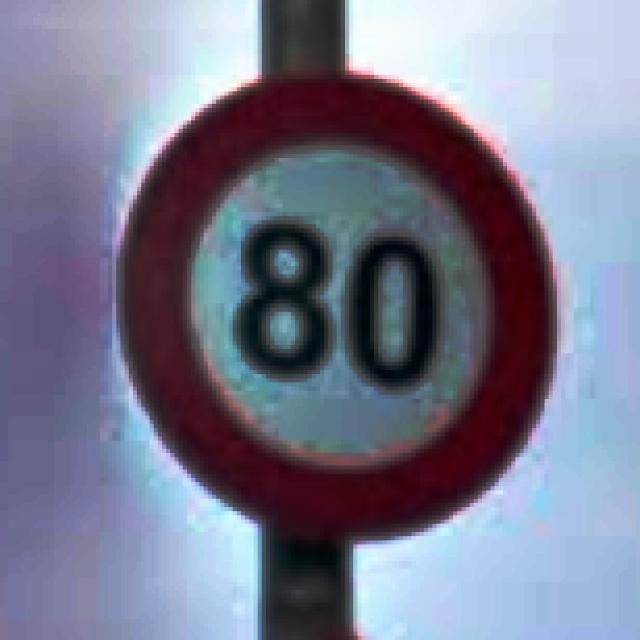max80: (112, 62, 557, 540)
